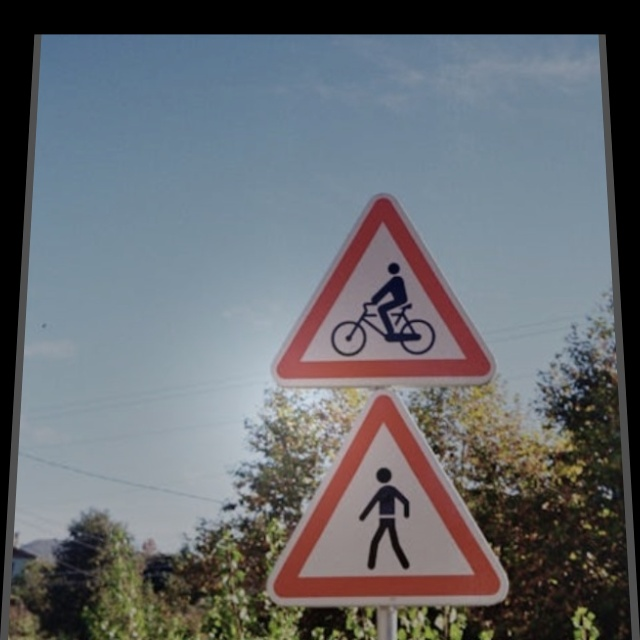Cycle_Crossing: (270, 193, 493, 382)
